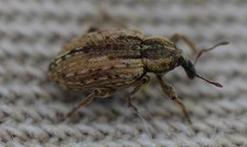weevils: (35, 17, 240, 135)
